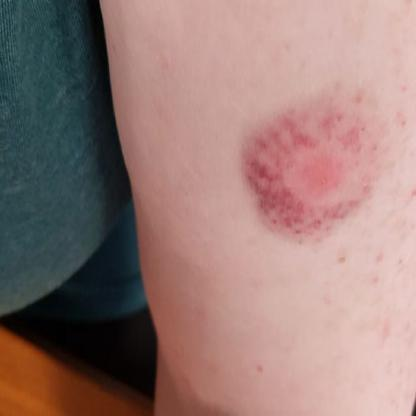Tick: (238, 74, 382, 248)
